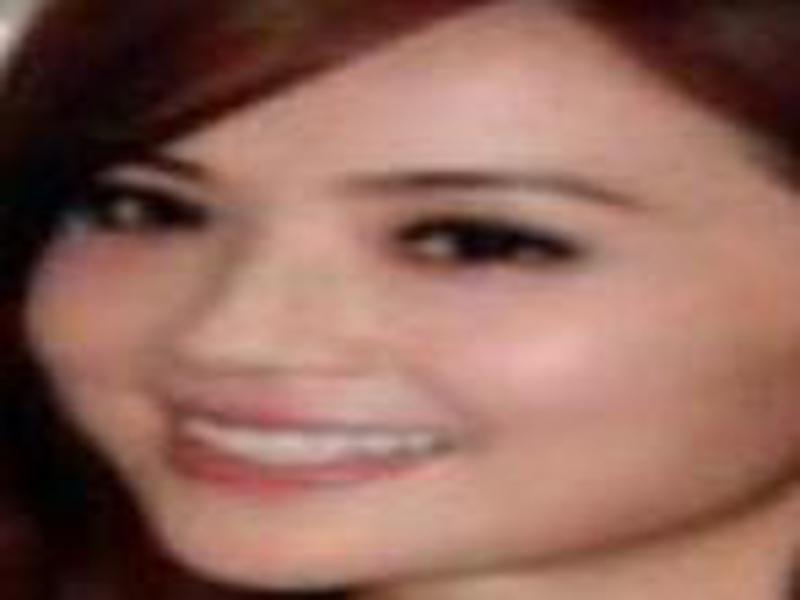without_mask: (19, 110, 770, 582)
